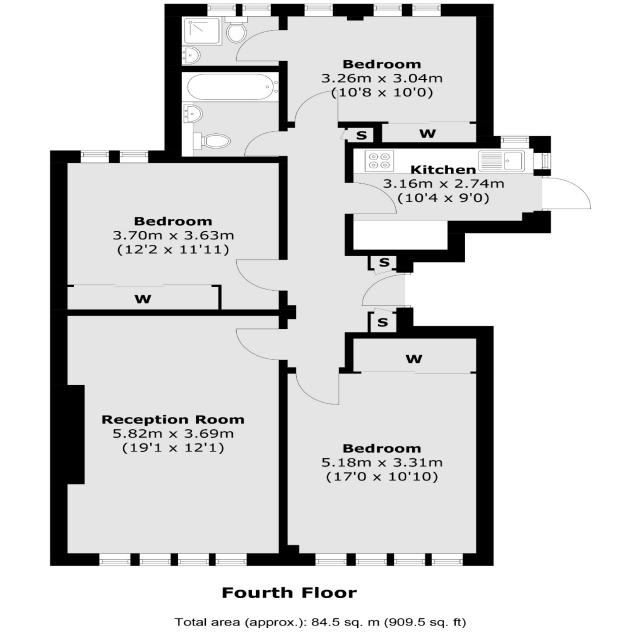DOOR: (227, 23, 291, 63), (357, 267, 415, 309), (226, 326, 288, 365), (537, 174, 598, 212), (344, 179, 403, 218), (293, 366, 344, 408), (231, 258, 289, 294), (292, 88, 342, 128), (242, 128, 287, 157)
ROOM: (51, 305, 296, 566), (277, 325, 495, 567), (49, 149, 297, 319), (345, 135, 602, 272), (278, 2, 494, 143)
WINDOW: (96, 550, 135, 568), (176, 551, 212, 568), (240, 1, 275, 18), (214, 551, 250, 567), (313, 551, 349, 567), (353, 551, 389, 567), (138, 551, 173, 567), (392, 551, 427, 567), (302, 2, 336, 18), (409, 2, 443, 18), (429, 552, 465, 567), (371, 2, 404, 18), (205, 2, 239, 17), (78, 149, 111, 164), (118, 149, 150, 164)
